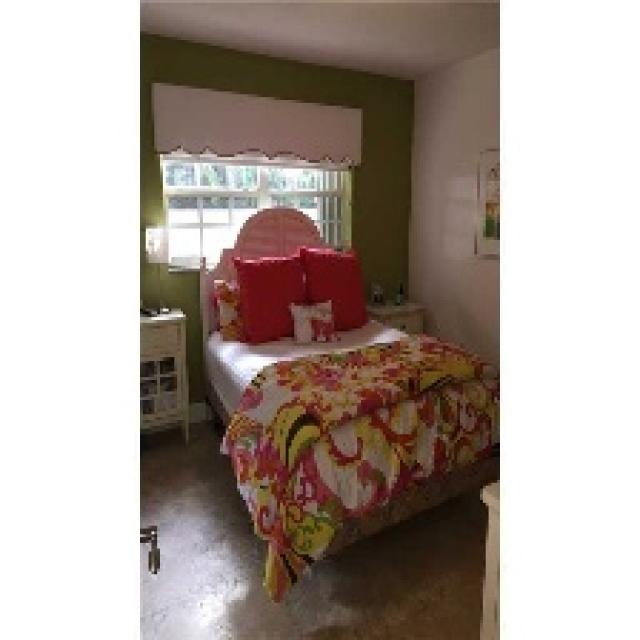Bed: (197, 206, 497, 603)
